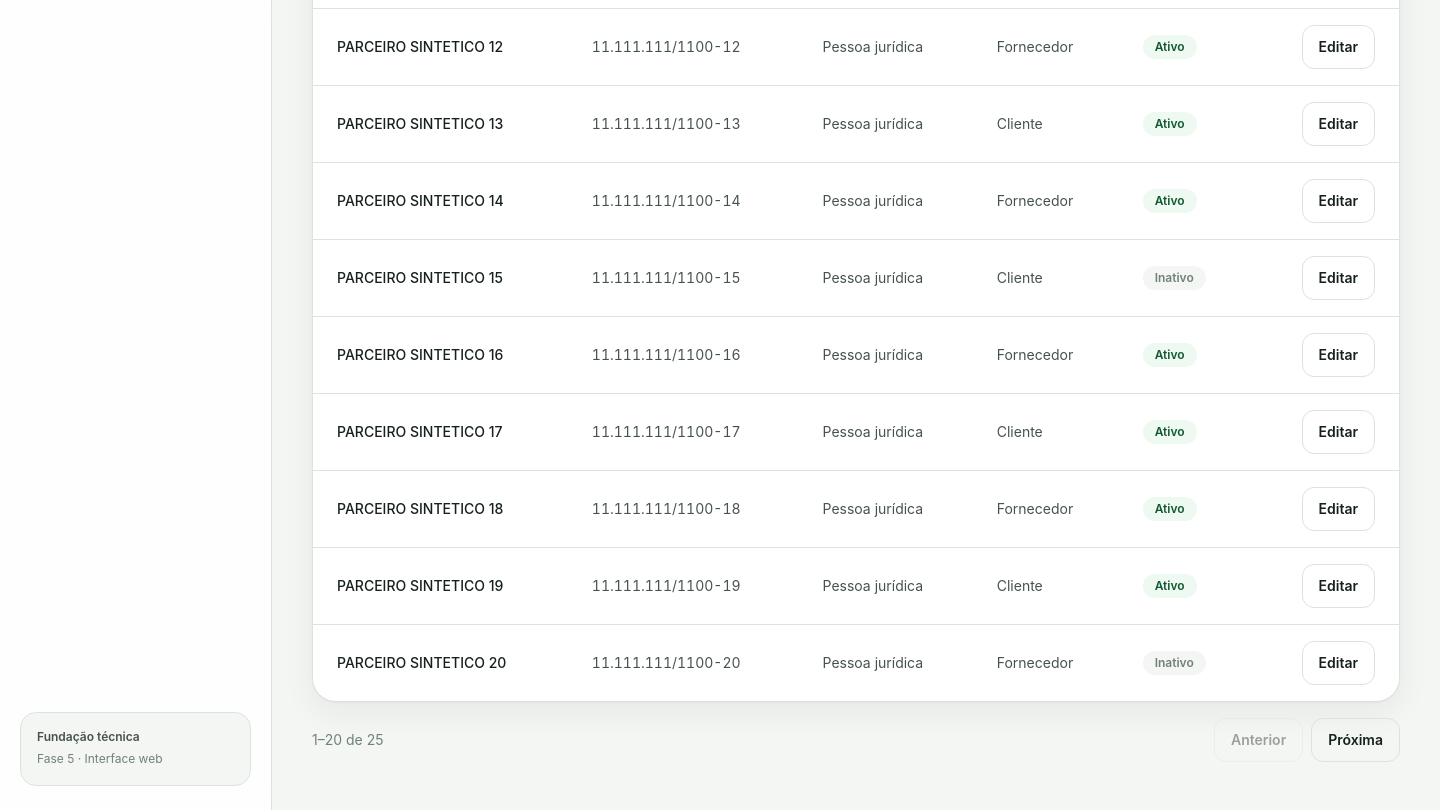
Test: listagens de cadastro › pagina a listagem de parceiros pelo deslocamento da API
(page scrolled)
Expected: the text "1–20 de 25" is shown, [312,730,384,750]
Expected: the button "Anterior" is disabled, [1214,718,1303,762]
Click the button "Próxima" at (1356, 740), box [1311,718,1400,762]
(page scrolled)
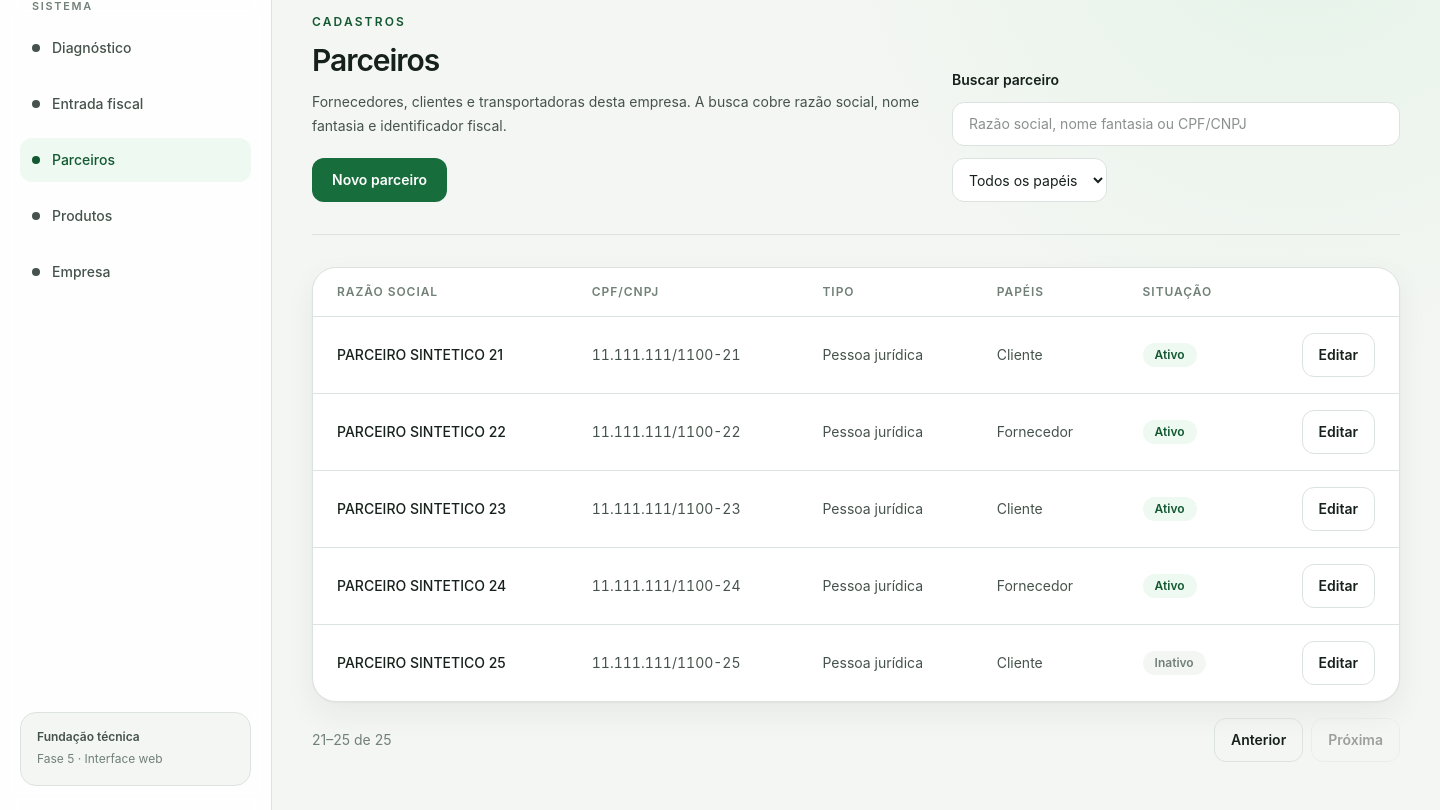
Expected: the text "21–25 de 25" is shown, [312,730,392,750]
Expected: the button "Próxima" is disabled, [1311,718,1400,762]
